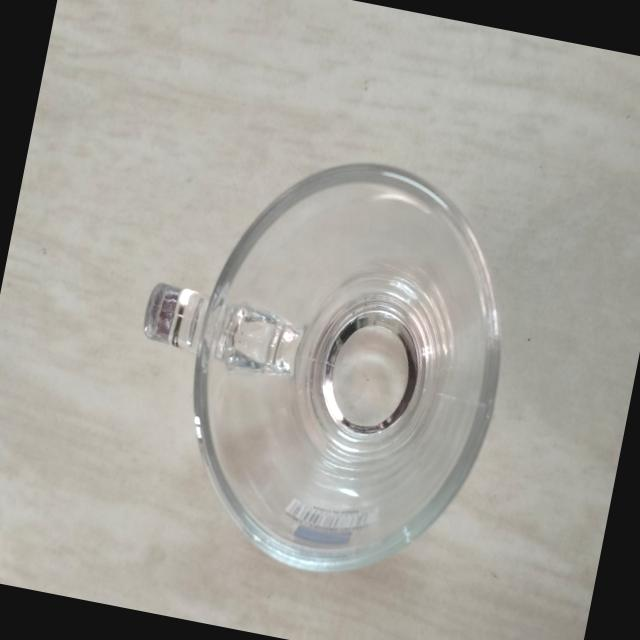glass-VX4N: (101, 127, 536, 603)
